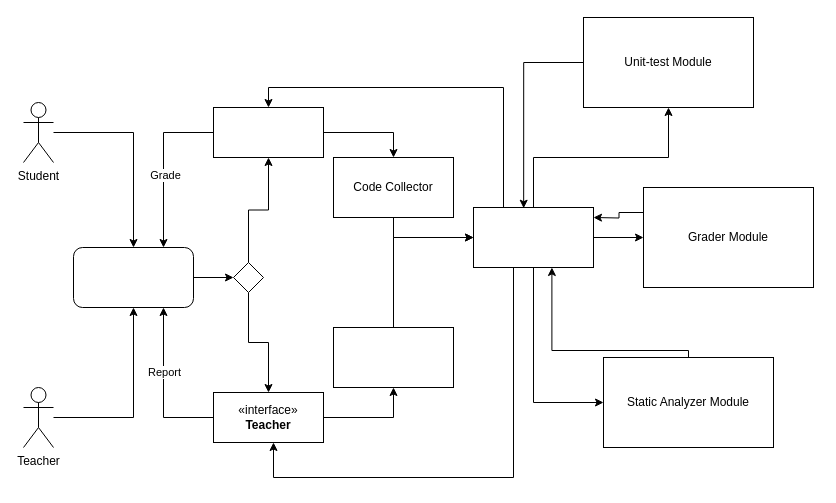
Image size: 836x503. Some labels were removed from this diagram. The shapes that lost their labels are listed below. From the top down, each one's centre as x and y in pixels, then its label:
[268,132]: «interface» Student
[533,237]: Orchestrator Module
[133,277]: LMS
[393,357]: Technical Task Collector
